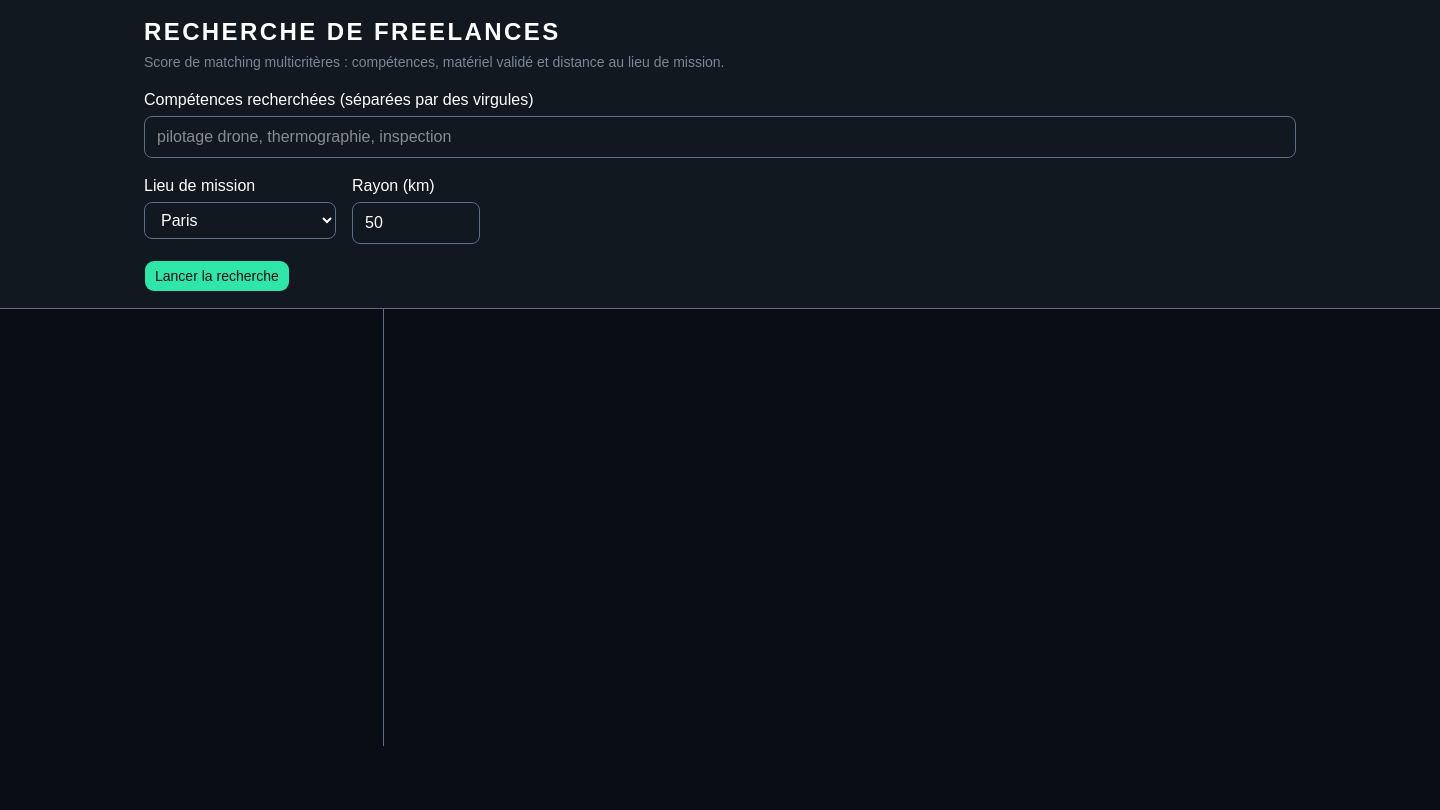
Page Recherche de freelances (SH-22) › refuse un rayon hors bornes (1..500) sans appel réseau
The image size is (1440, 810).
Step 1. Type "pilotage drone" into the field labelled "Compétences recherchées (séparées par des virgules)" → (720, 137), box top-left (144, 116), bottom-right (1296, 158)
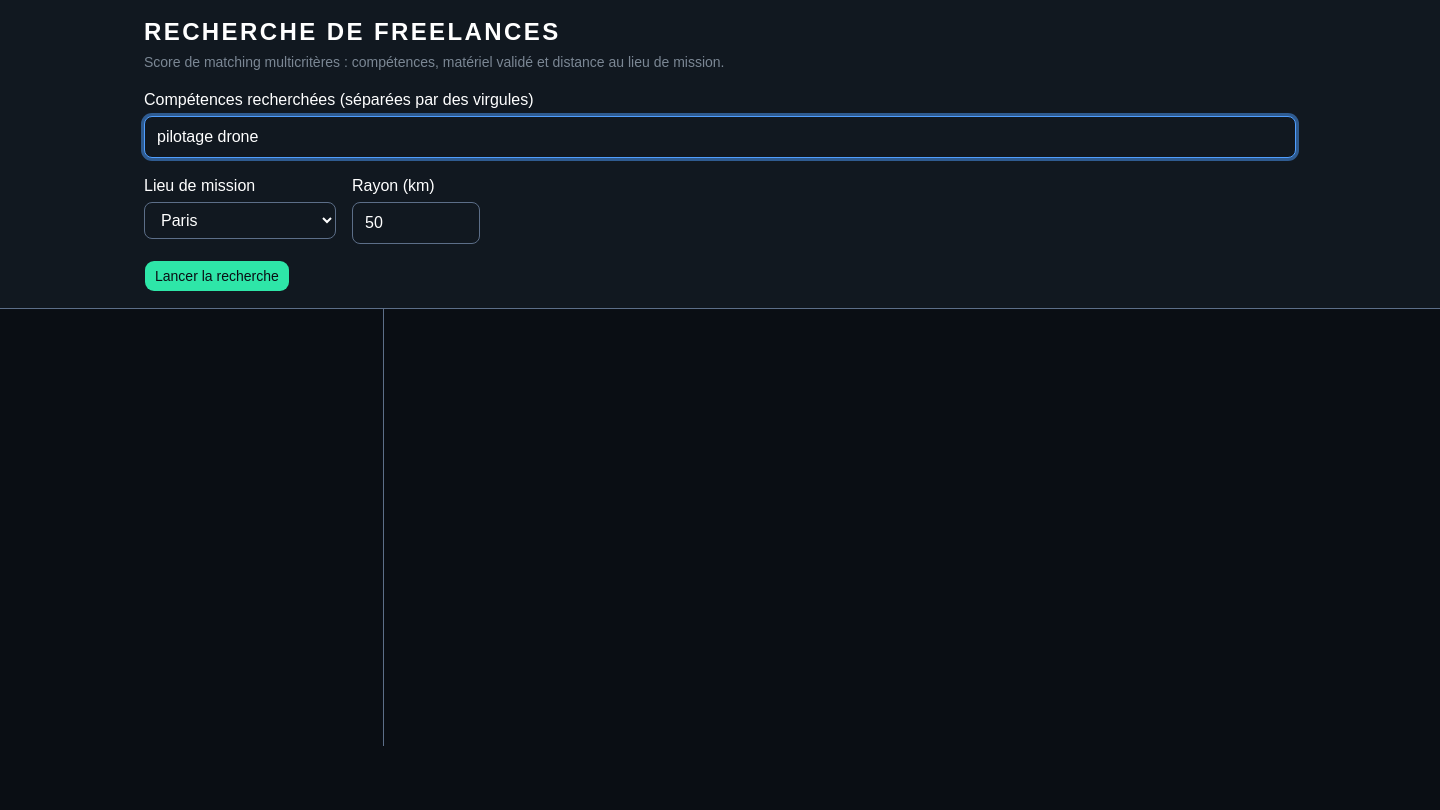
Step 2. Replace the text in the number field labelled "Rayon (km)" with "900" → (416, 223), box top-left (352, 202), bottom-right (480, 244)
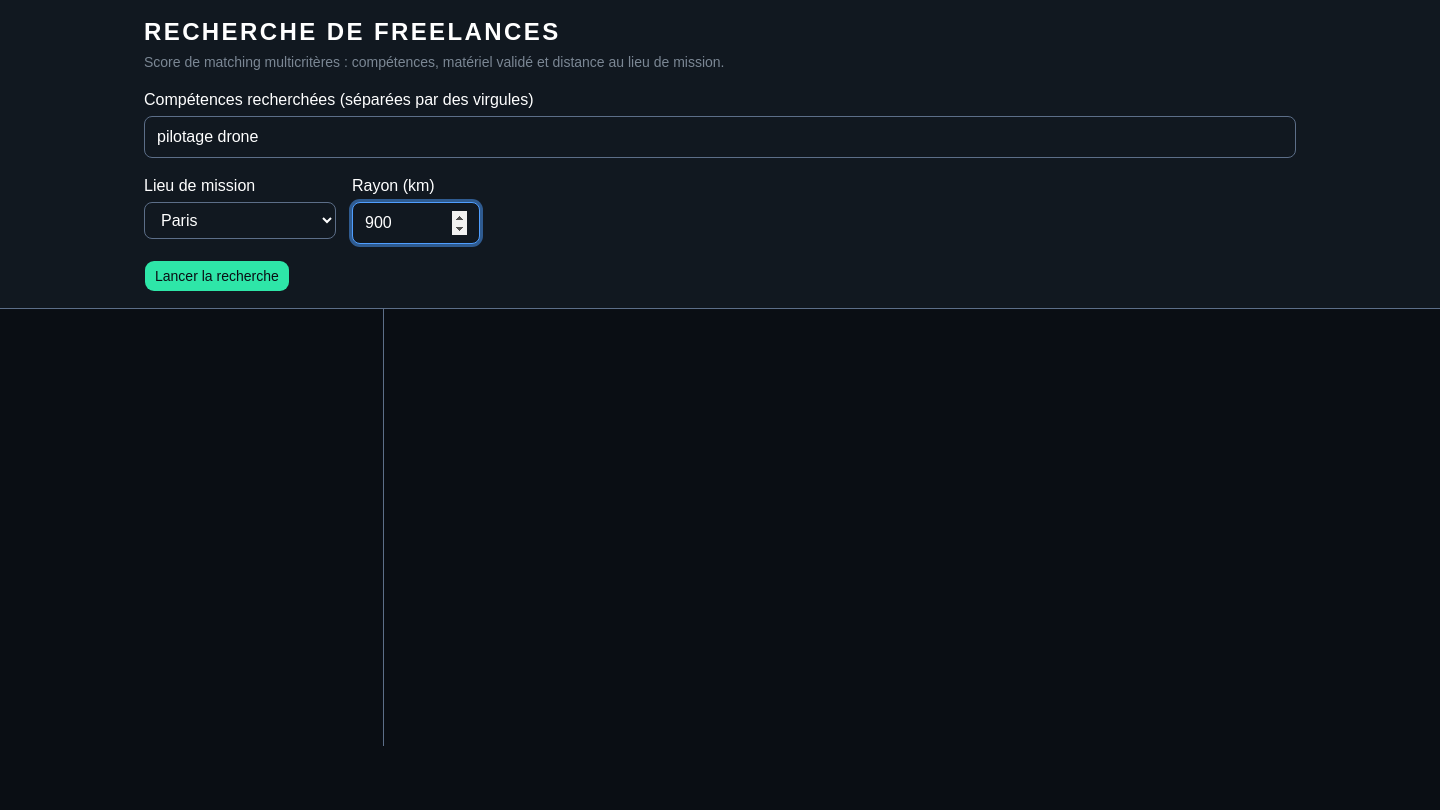
Step 3. Click the button "Lancer la recherche" → (217, 276), box top-left (144, 260), bottom-right (290, 292)
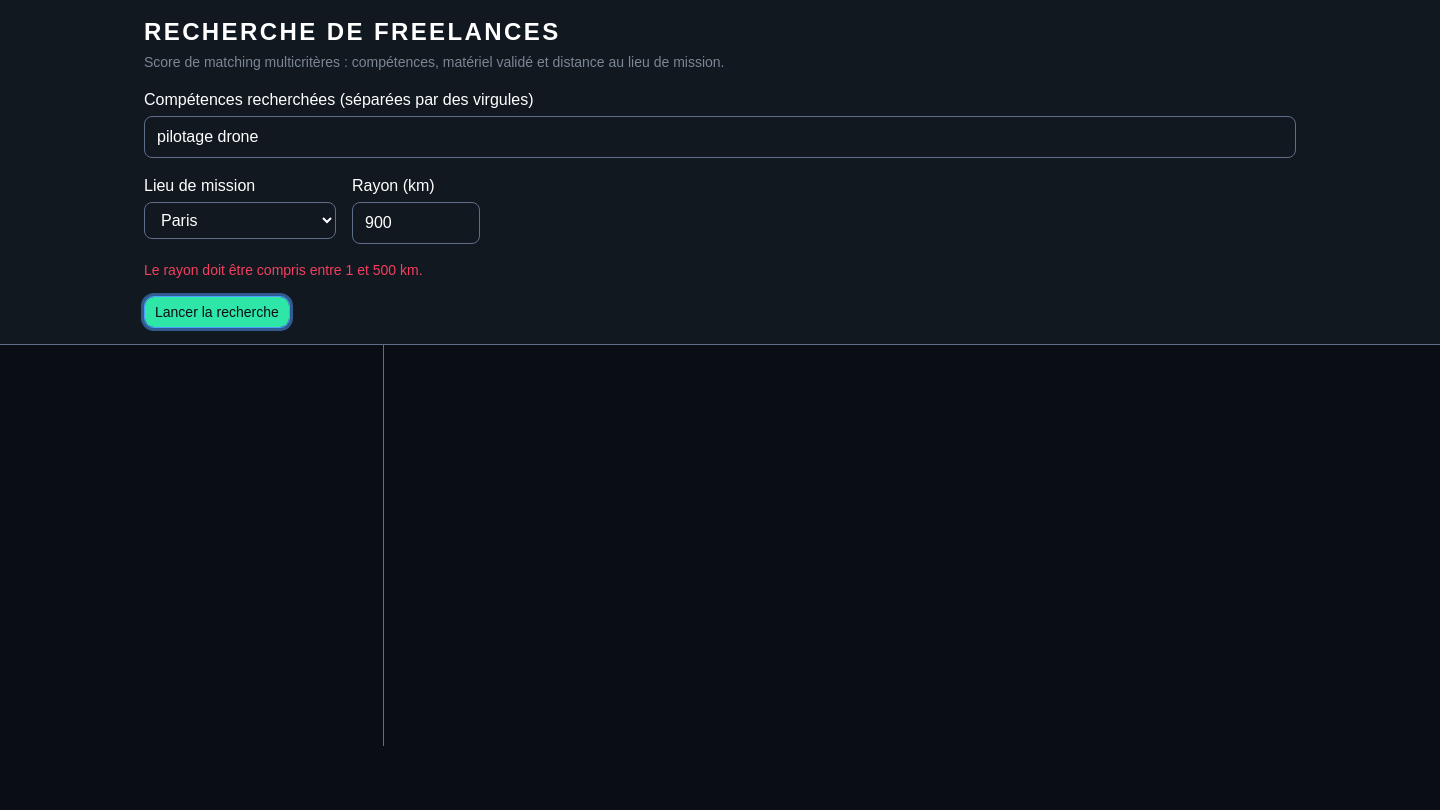
Check: the message reads "Le rayon doit être compris entre 1 et 500 km.", box top-left (144, 262), bottom-right (423, 278)
